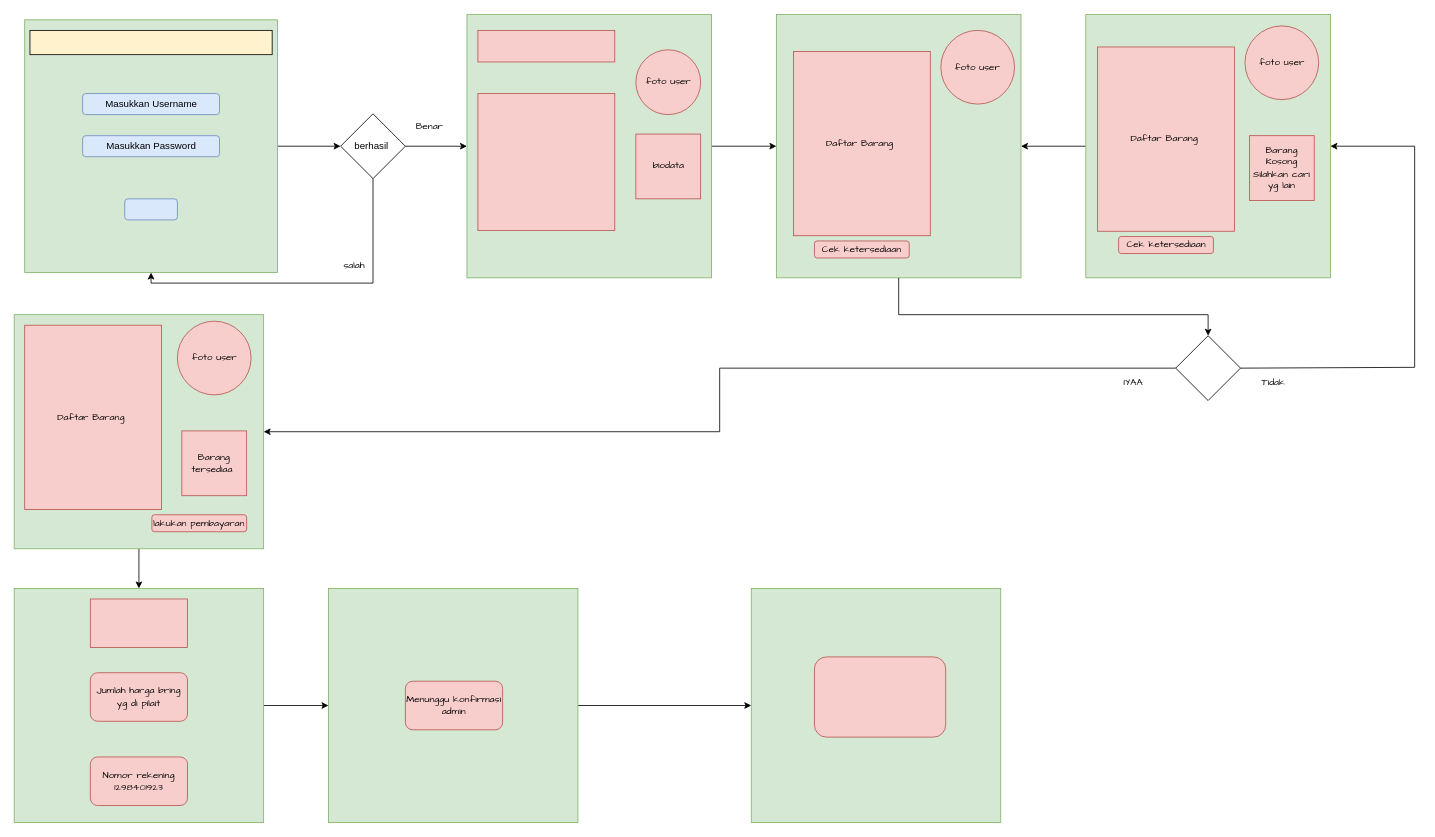
Image size: 1435x837. Some labels were removed from this diagram. The centre of each missing label's shape, as x and y in pixels:
Admin severing mengurus pesanan anda untuk dikirim: the point at 880,696
informasi: the point at 546,161
Login: the point at 150,209
Melakuakn Pembayaran: the point at 139,623
Menu Pencarian Barang: the point at 546,46
Selamat datang di tokoh elektronik: the point at 150,42
